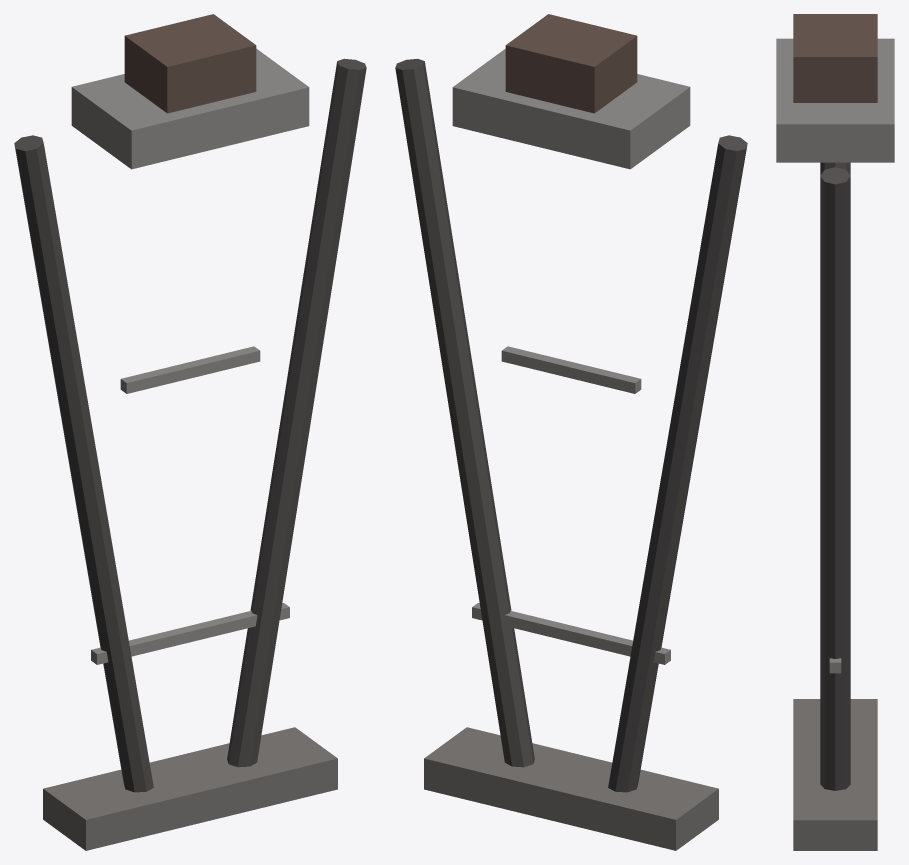
Rendered from B_ctower.glb.
3 renders of one model, left to right at view 1: azimuth 30°, elevation 25°; view 2: azimuth 150°, elevation 25°; view 3: azimuth 270°, elevation 25°, orthographic.
Parts seen in each view (by area): view 1: Cylinder.001, Cylinder, Cube.006, Cube.004, Cube.005, Cube.002, Cube.003; view 2: Cylinder.001, Cylinder, Cube.006, Cube.004, Cube.005, Cube.002, Cube.003; view 3: Cylinder.001, Cube.006, Cube.004, Cube.005.
Boxes of the visible parts, <box> form: Cylinder.001: <box>227,58,366,767</box>; Cylinder: <box>14,135,153,792</box>; Cube.006: <box>43,727,337,850</box>; Cube.004: <box>71,48,309,169</box>; Cube.005: <box>124,14,256,113</box>; Cube.002: <box>91,603,289,664</box>; Cube.003: <box>120,346,260,393</box>; Cylinder.001: <box>395,58,534,767</box>; Cylinder: <box>608,135,747,792</box>; Cube.006: <box>424,727,718,850</box>; Cube.004: <box>452,48,690,169</box>; Cube.005: <box>505,14,637,113</box>; Cube.002: <box>472,603,670,664</box>; Cube.003: <box>501,346,641,393</box>; Cylinder.001: <box>820,167,850,790</box>; Cube.006: <box>793,699,877,850</box>; Cube.004: <box>776,38,894,162</box>; Cube.005: <box>793,14,877,102</box>.
Size of the model in its own units: 4.71 by 9.91 by 1.4.
